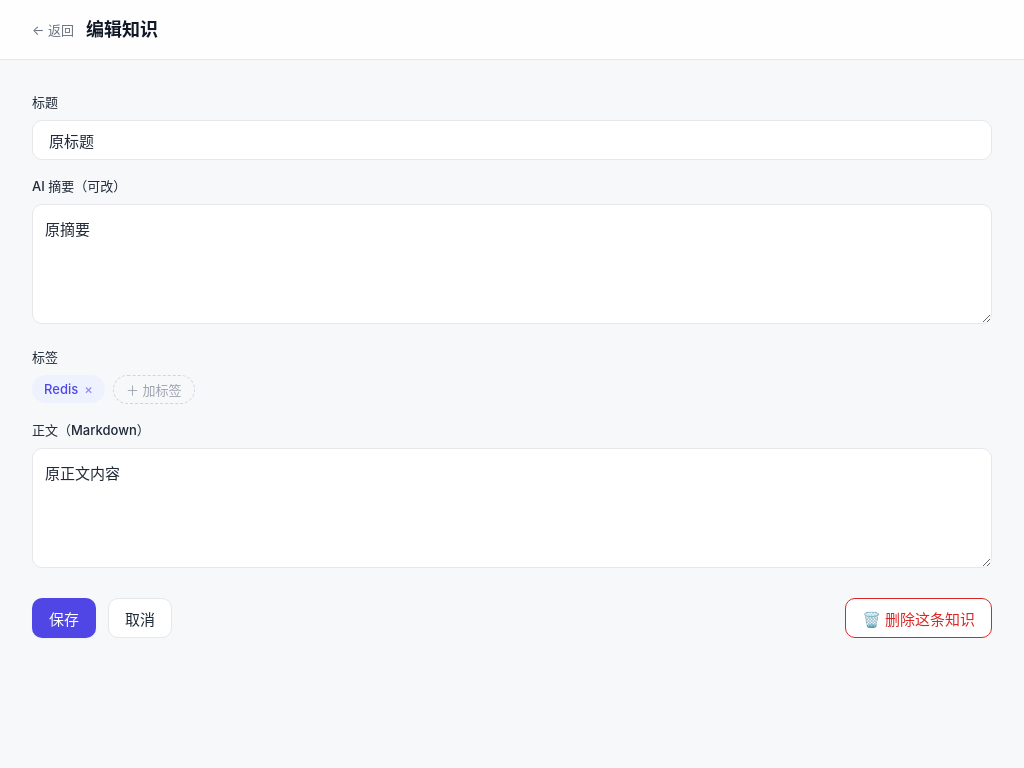
C-KM-08 / C-KM-09 删除二次确认 → 回收站 › 删除确认弹窗可 Esc 关闭（a11y）
Expected: the text box labelled "正文（Markdown）" is shown, x1=32 y1=448 x2=992 y2=568
Click the button "🗑️ 删除这条知识" at (919, 618), box x1=845 y1=598 x2=992 y2=638
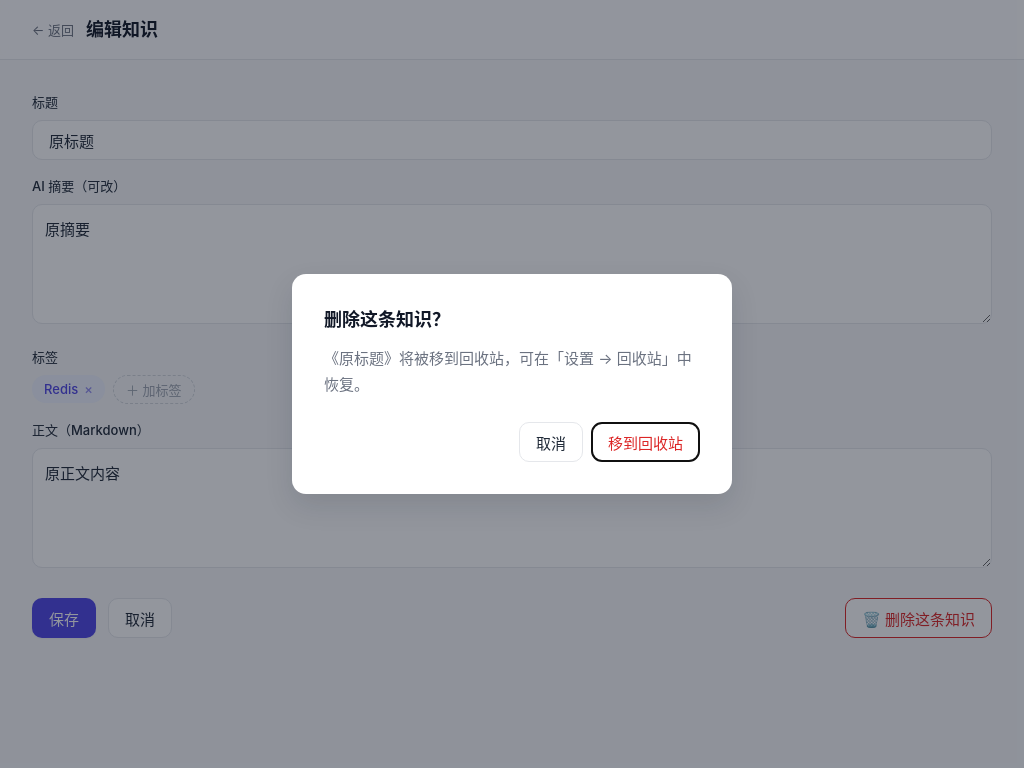
Now the dialog is shown, box x1=292 y1=274 x2=732 y2=494
Press Escape
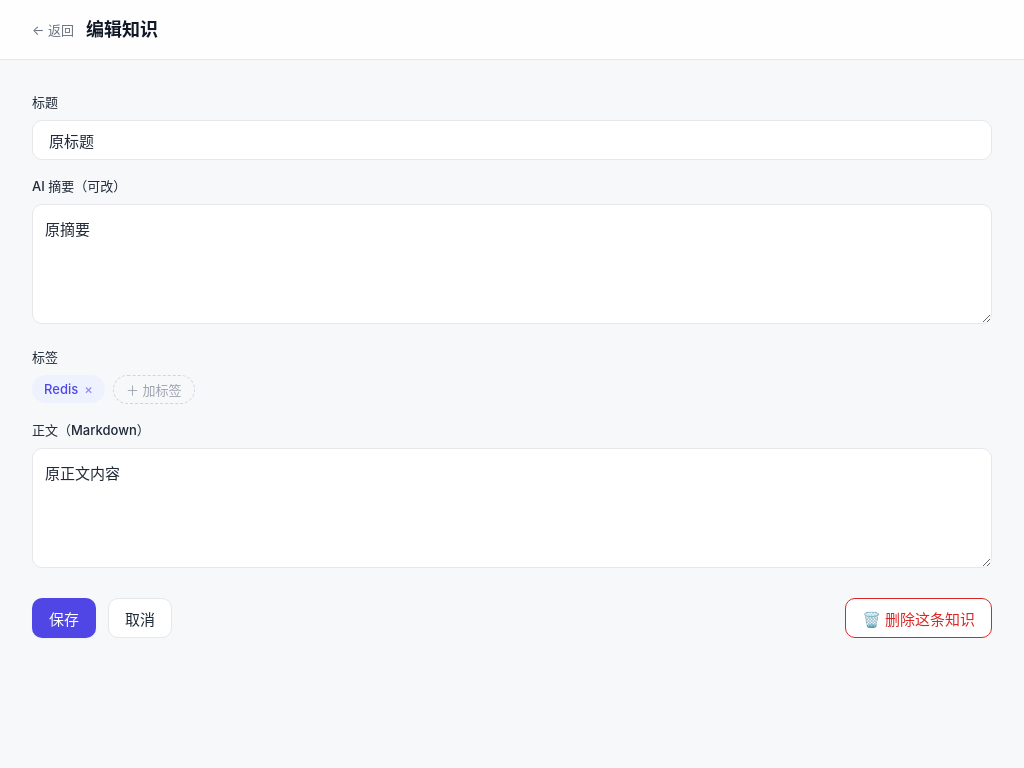
Now the dialog is gone
